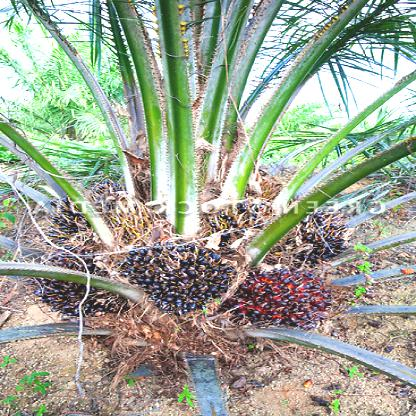1: (232, 266, 331, 331)
palm-oil: (121, 245, 230, 314), (33, 254, 118, 314), (279, 207, 356, 260), (208, 200, 274, 245), (42, 198, 85, 238)
